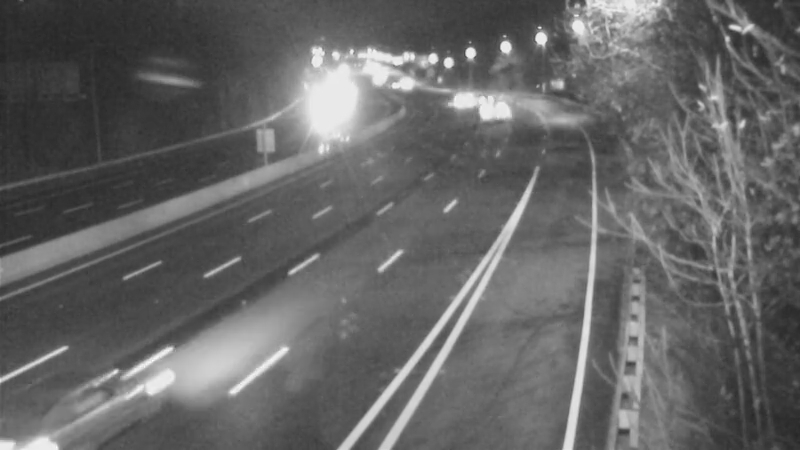vehicle: (49, 344, 159, 450), (373, 57, 423, 107), (366, 62, 416, 112), (436, 73, 486, 123), (458, 72, 508, 122), (467, 87, 517, 137)
